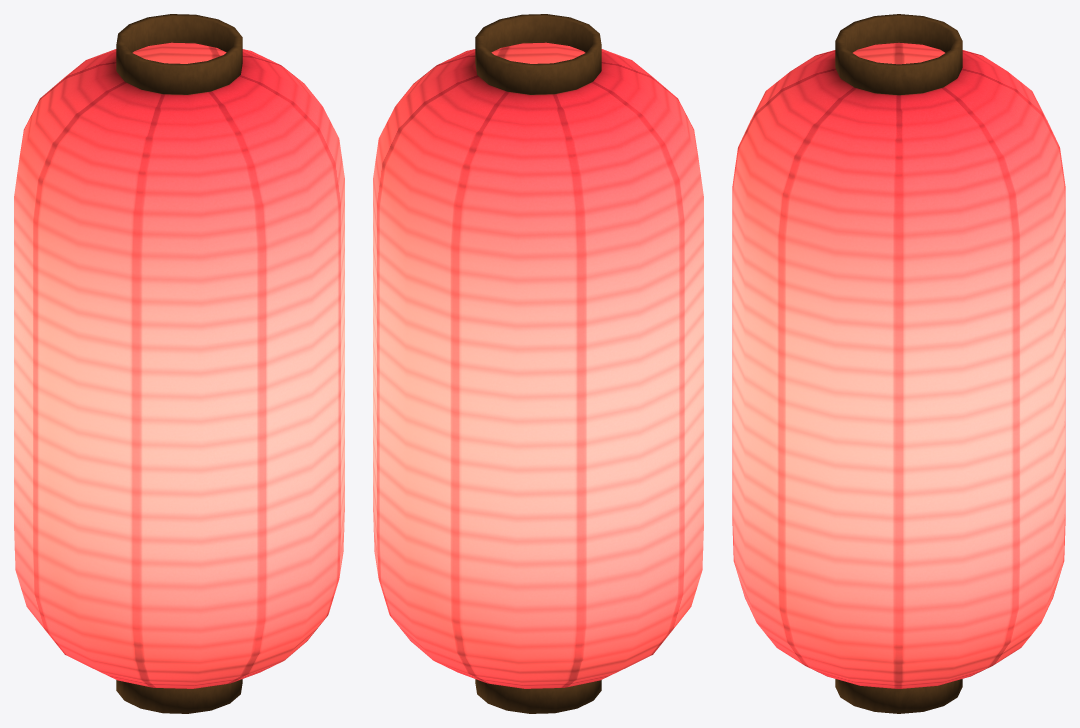
The model's file is lantern.glb.
3 views of the same model, side by side, from view 1: azimuth 30°, elevation 25°; view 2: azimuth 150°, elevation 25°; view 3: azimuth 270°, elevation 25° (orthographic).
Parts seen in each view (by area): view 1: Paper Lantern_0; view 2: Paper Lantern_0; view 3: Paper Lantern_0.
Part boxes in pixels (bbox=[...]): Paper Lantern_0: bbox=[14, 14, 344, 713]; Paper Lantern_0: bbox=[373, 14, 703, 713]; Paper Lantern_0: bbox=[732, 14, 1065, 713].
Size of the model in its own units: 3.14 by 6.71 by 3.14.
Materials: 1 (1 with a texture image).
